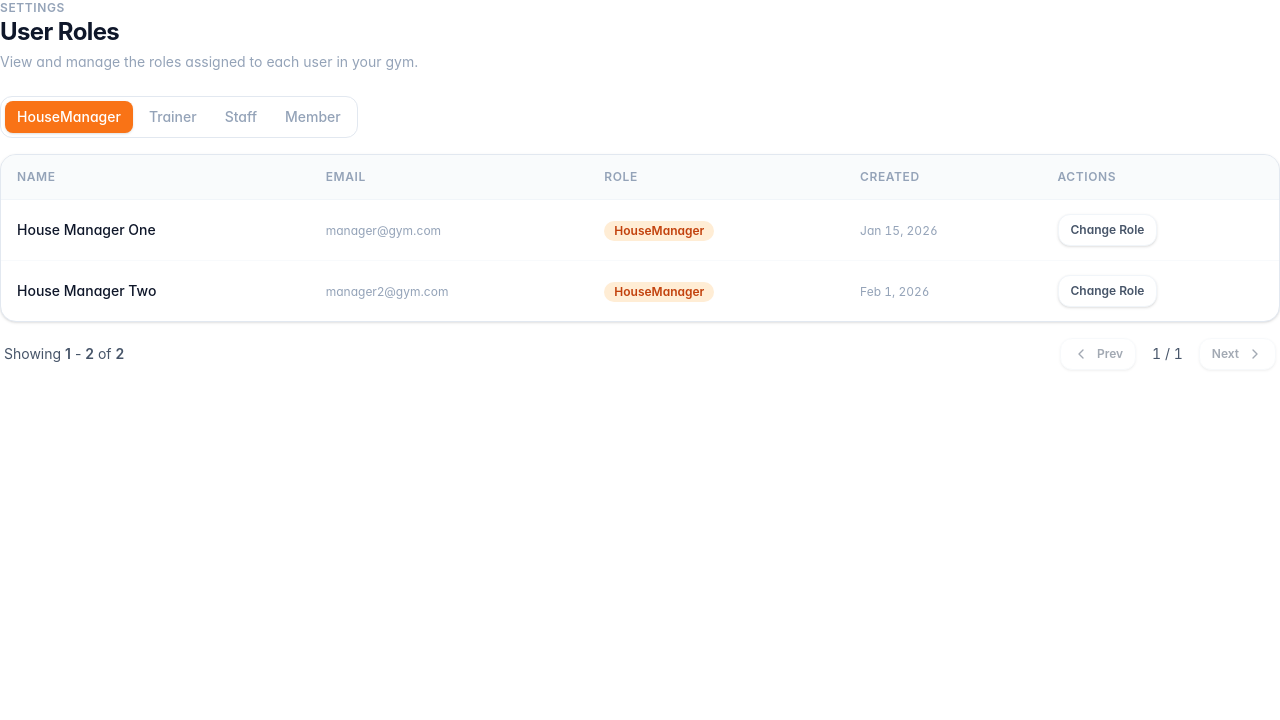
Test case: UserRolesPage › opens change role dialog when Change Role button is clicked
Check: the text "House Manager One" is shown, box [17,221,156,238]
Step 1. Click the button with aria-label "change role for house manager one" → (1107,230), box [1058,214,1157,246]
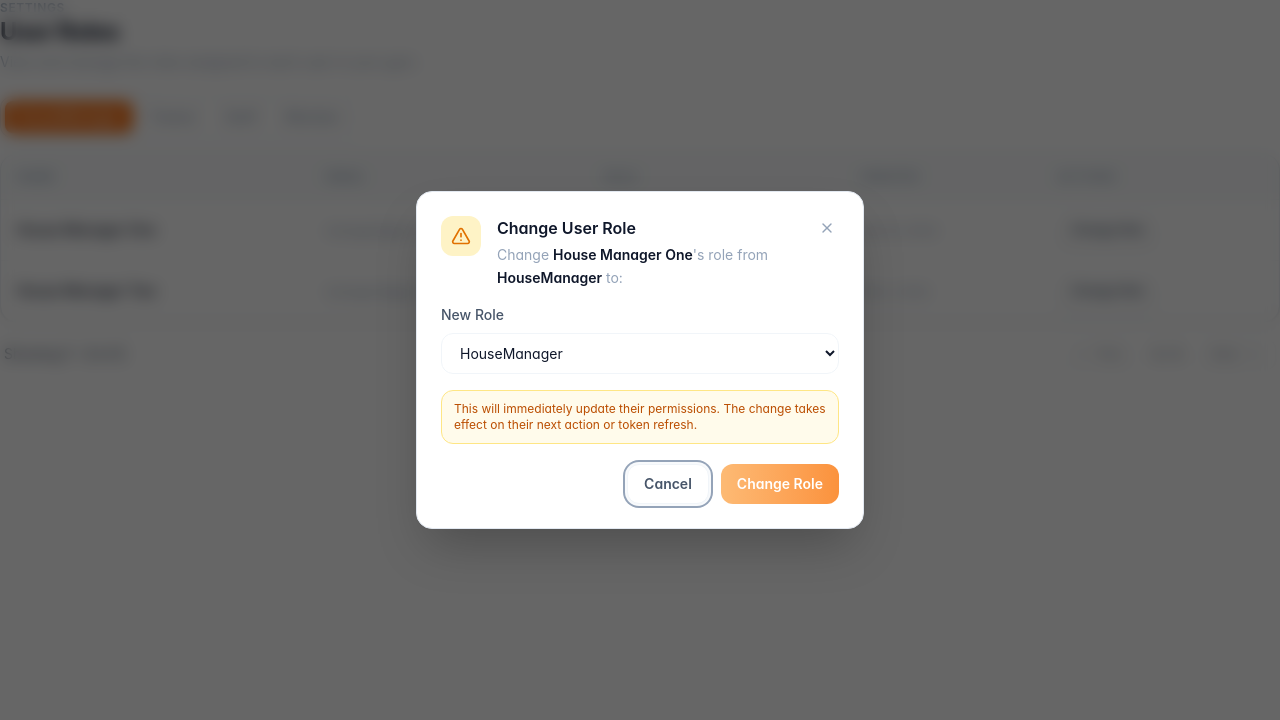
Check: the heading "Change User Role" is shown, box [497,218,636,238]
